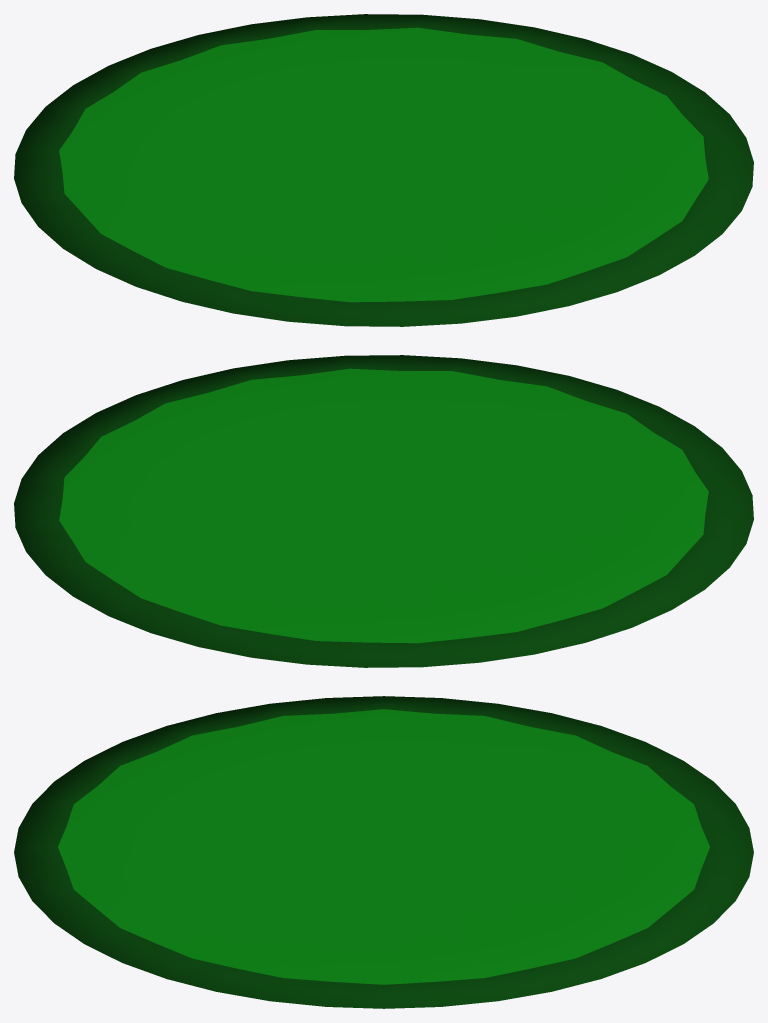
3 renders of one model, top to bottom at view 1: azimuth 30°, elevation 25°; view 2: azimuth 150°, elevation 25°; view 3: azimuth 270°, elevation 25°, orthographic.
Visible parts, largest first — view 1: pCylinder32; view 2: pCylinder32; view 3: pCylinder32.
Part boxes in pixels (box(x1,y1,x2,y2)): pCylinder32: box(14, 14, 753, 326); pCylinder32: box(14, 355, 753, 667); pCylinder32: box(14, 696, 753, 1008).
Bounding box in the file's own units: 10.15 × 0.2218 × 10.15.
